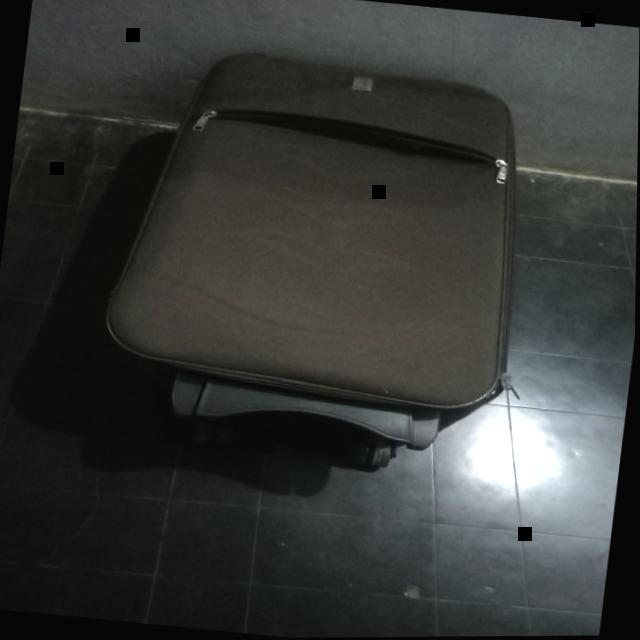luggage: (79, 31, 546, 480)
